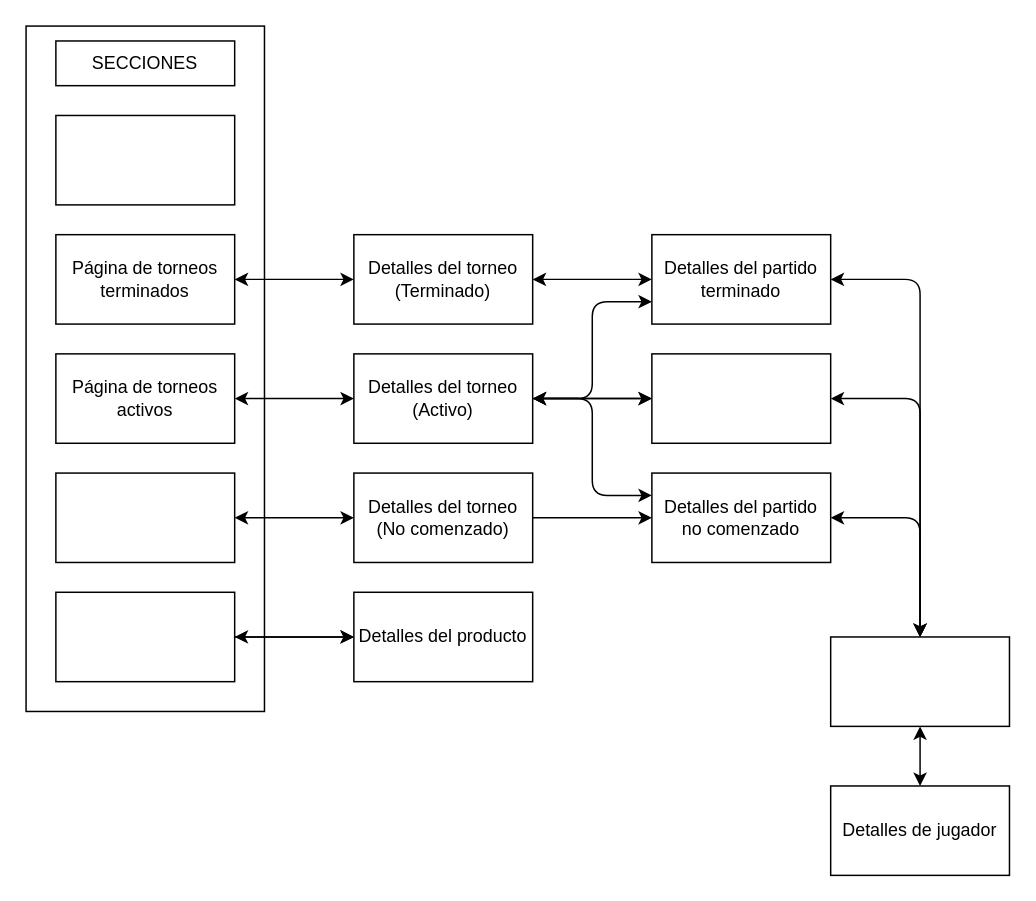
The diagram is 1036 pixels wide and 901 high, and some of its shapes have lost their labels. Each missing label, with the box of its shape:
Detalles de equipo: (829, 635, 1009, 726)
Detalles del partido actual: (650, 352, 831, 443)
Página de torneos no comenzados: (54, 472, 235, 562)
Página principal: (54, 114, 235, 205)
Tienda de merchandising: (54, 591, 235, 682)
